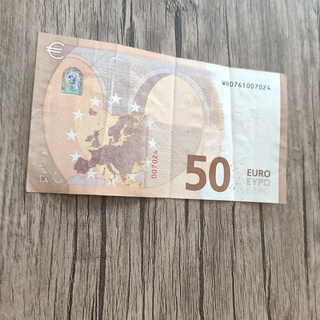50EUROBack: (23, 30, 289, 205)
